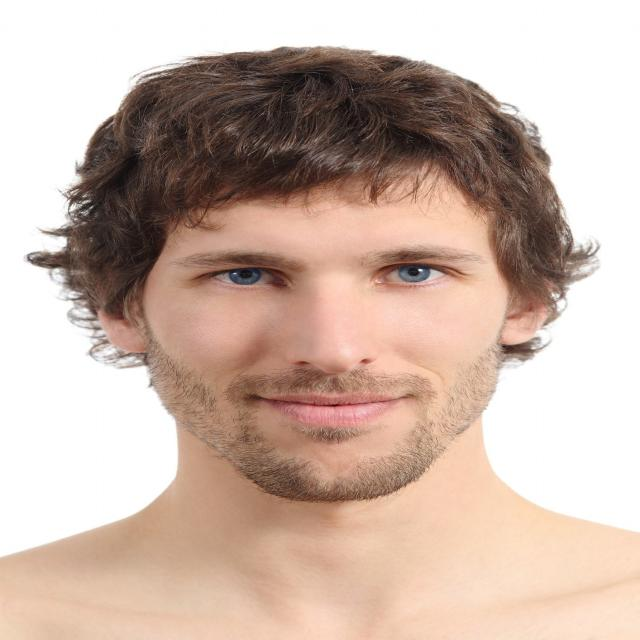earlobe: (503, 315, 534, 347), (115, 323, 148, 353)
eye: (376, 264, 450, 285), (208, 266, 284, 286)
nose: (290, 360, 386, 393)
